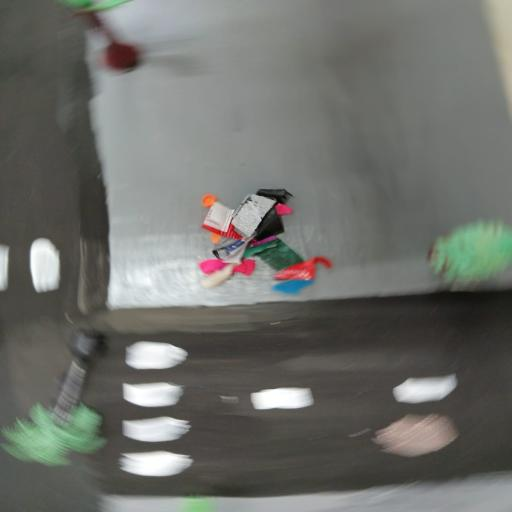fallen trees: (7, 330, 130, 467)
trash: (196, 180, 339, 304)
